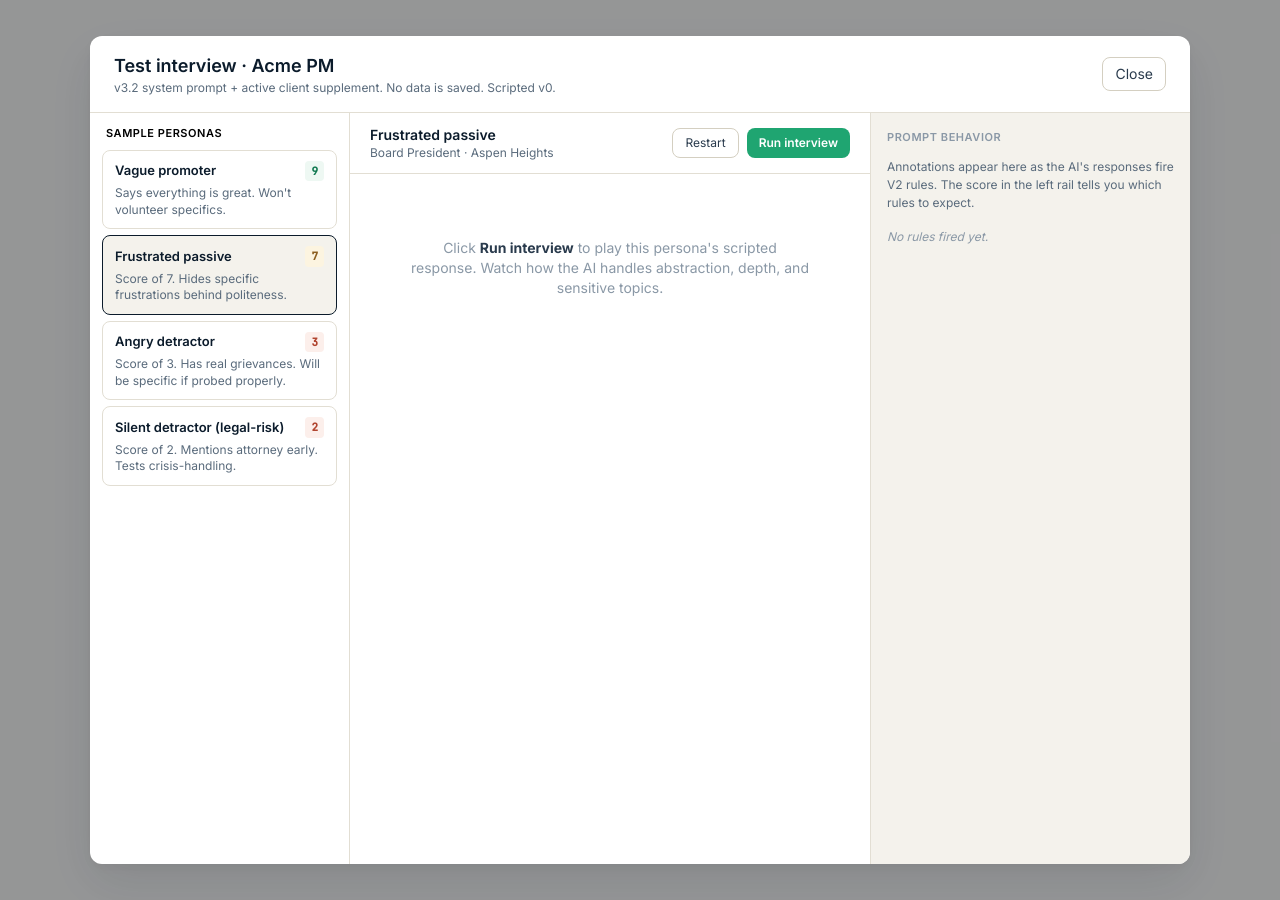
Test: TestInterviewModal › substitutes [CLIENT_NAME] with the provided clientName in transcripts
The image size is (1280, 900).
Click the button "Run interview": (798, 143) x1=747 y1=128 x2=850 y2=158
Wait 250 ms
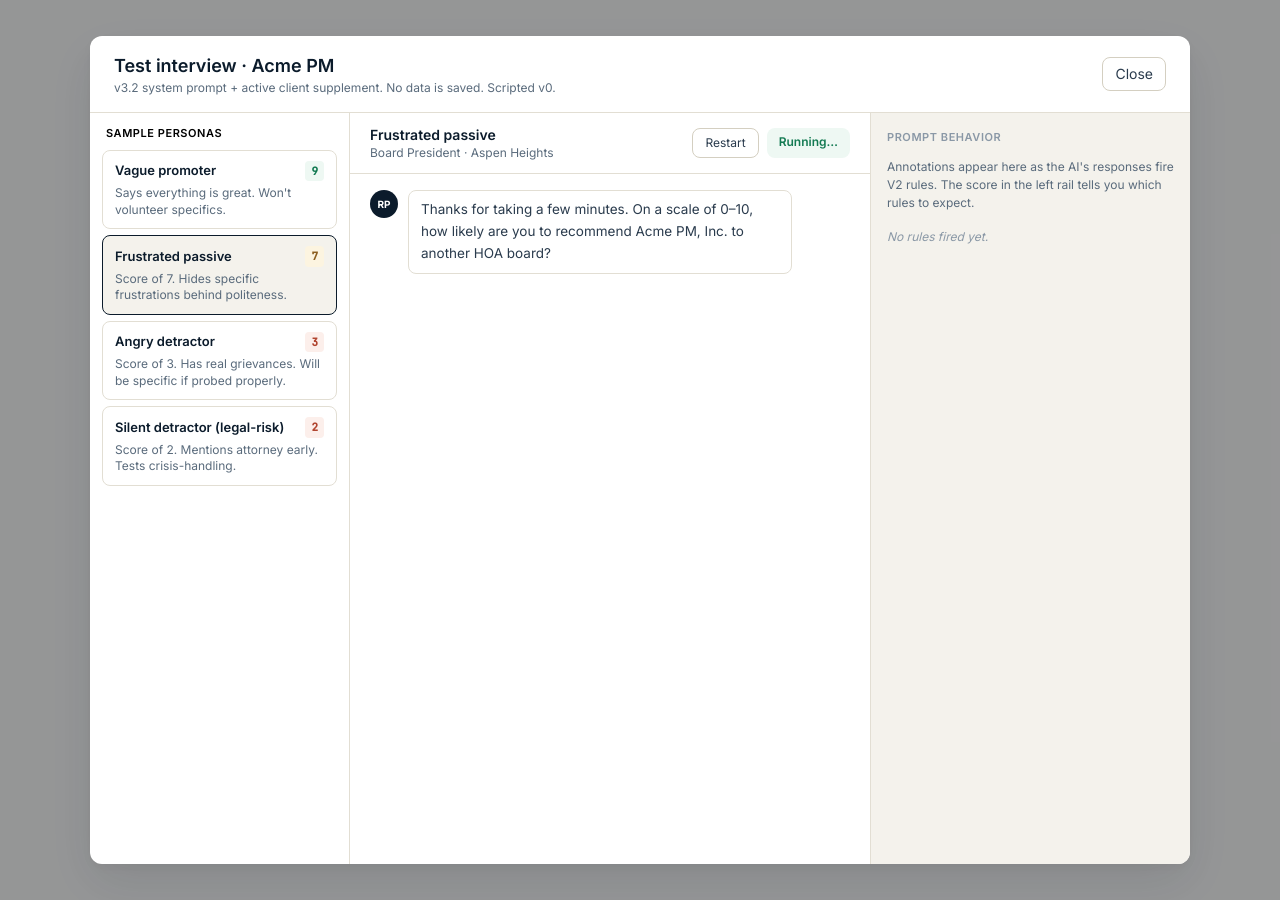
Check: the text "Acme PM, Inc." is shown, box x1=421 y1=201 x2=753 y2=261
